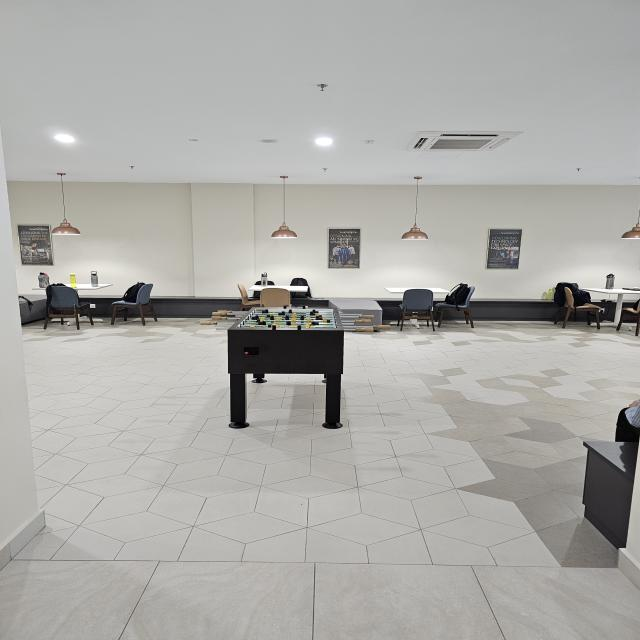footpath: (58, 431, 575, 640), (365, 333, 600, 424), (27, 331, 220, 427)
obstacle: (225, 304, 348, 431), (582, 398, 640, 588)
